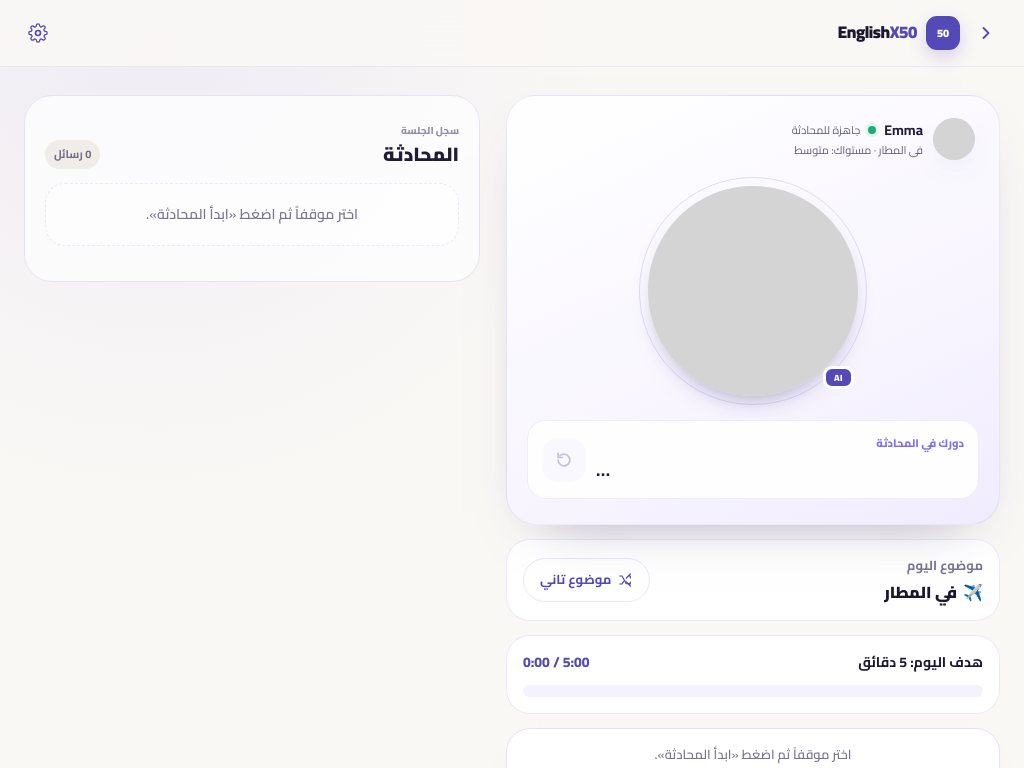
Scenario: SpeakScreen › lets the learner reroll the assigned topic exactly once before starting
Expected: the text "✈️ في المطار" is shown, x1=884 y1=580 x2=983 y2=604
Click the button "موضوع تاني" at {"x": 587, "y": 580}, box x1=523 y1=558 x2=650 y2=602
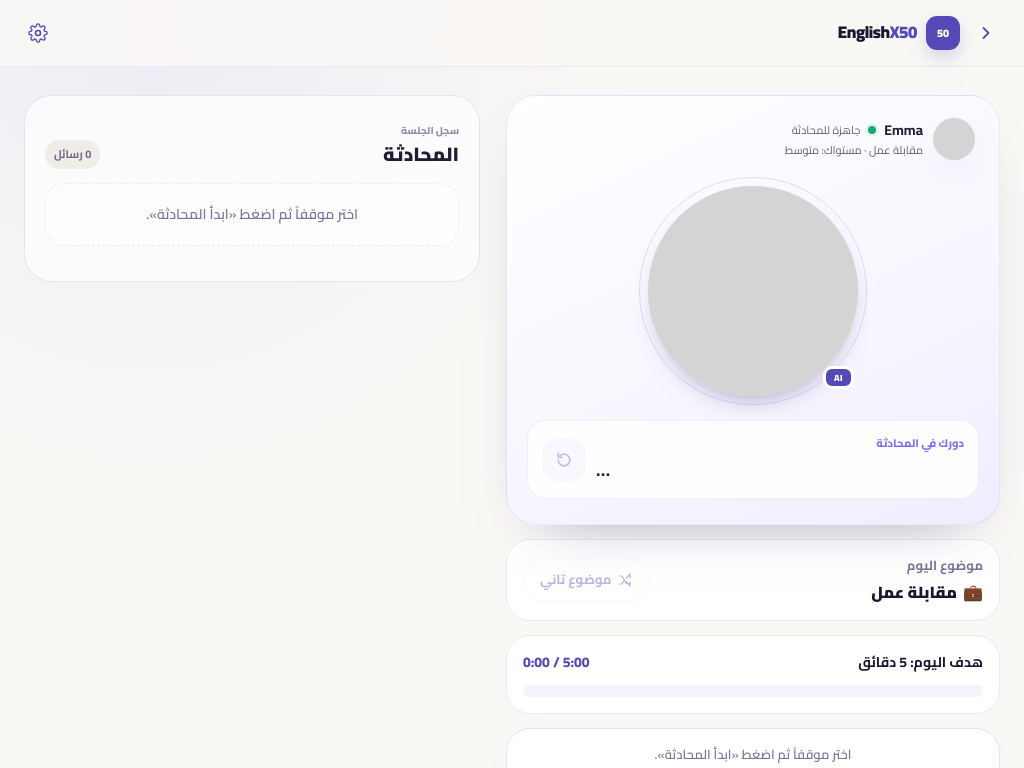
Result: the text "في المطار" is gone
Result: the button "موضوع تاني" is disabled
Click the button "موضوع تاني" at {"x": 587, "y": 580}, box x1=523 y1=558 x2=650 y2=602
(page scrolled)
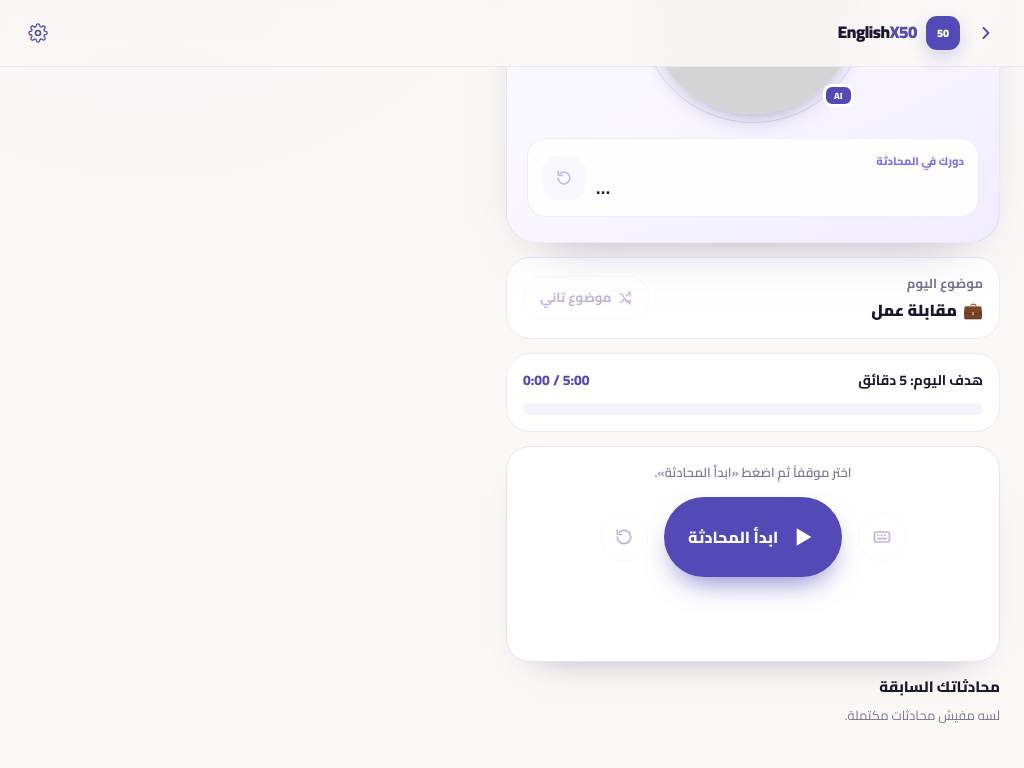
Result: the text "💼 مقابلة عمل" is shown at x1=871 y1=298 x2=983 y2=322
Click the button "ابدأ المحادثة" at {"x": 753, "y": 536}, box x1=664 y1=496 x2=842 y2=576
(page scrolled)
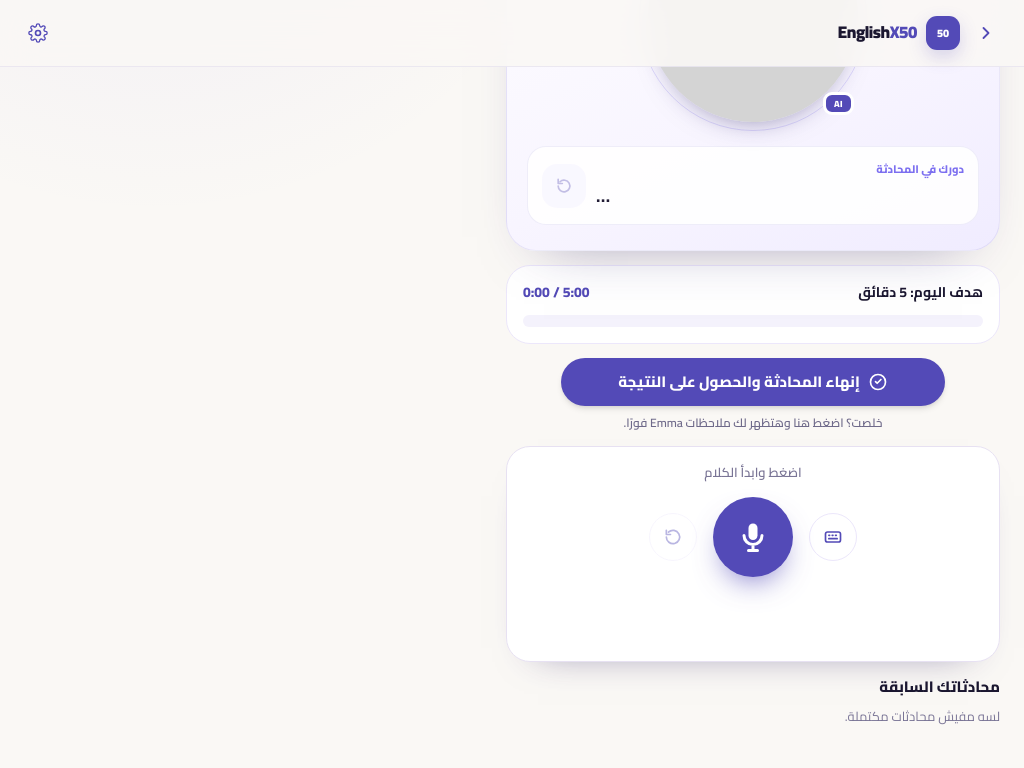
Result: the button named "ابدأ التسجيل" is shown at x1=713 y1=497 x2=793 y2=577
